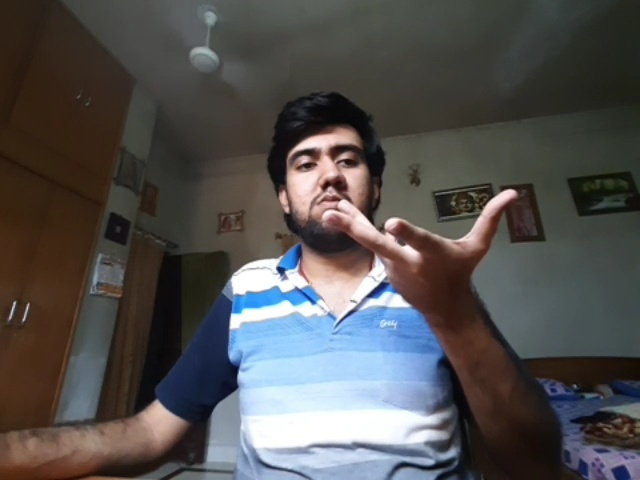What: (322, 189, 519, 309)
